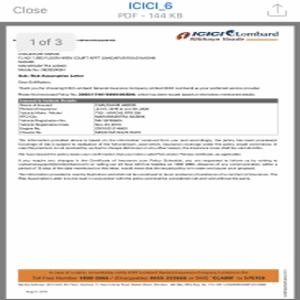image: (173, 29, 282, 42)
table: (17, 96, 279, 134)
text: (17, 137, 282, 182), (15, 51, 264, 96)
